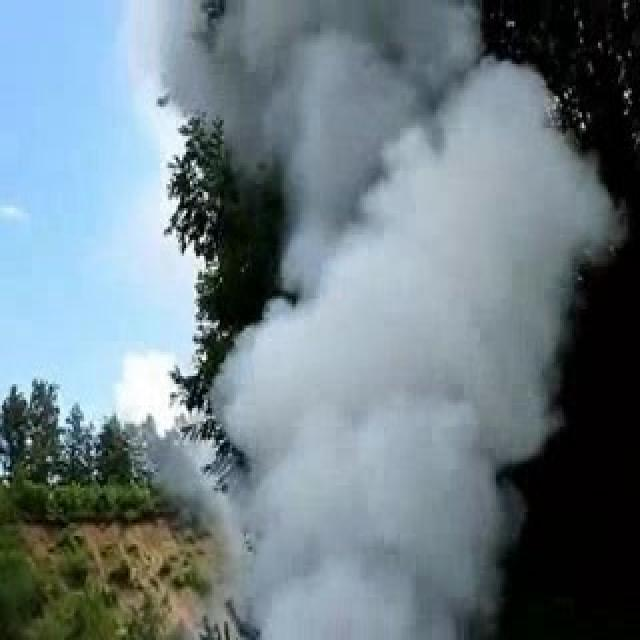Smoke: (112, 0, 624, 640)
